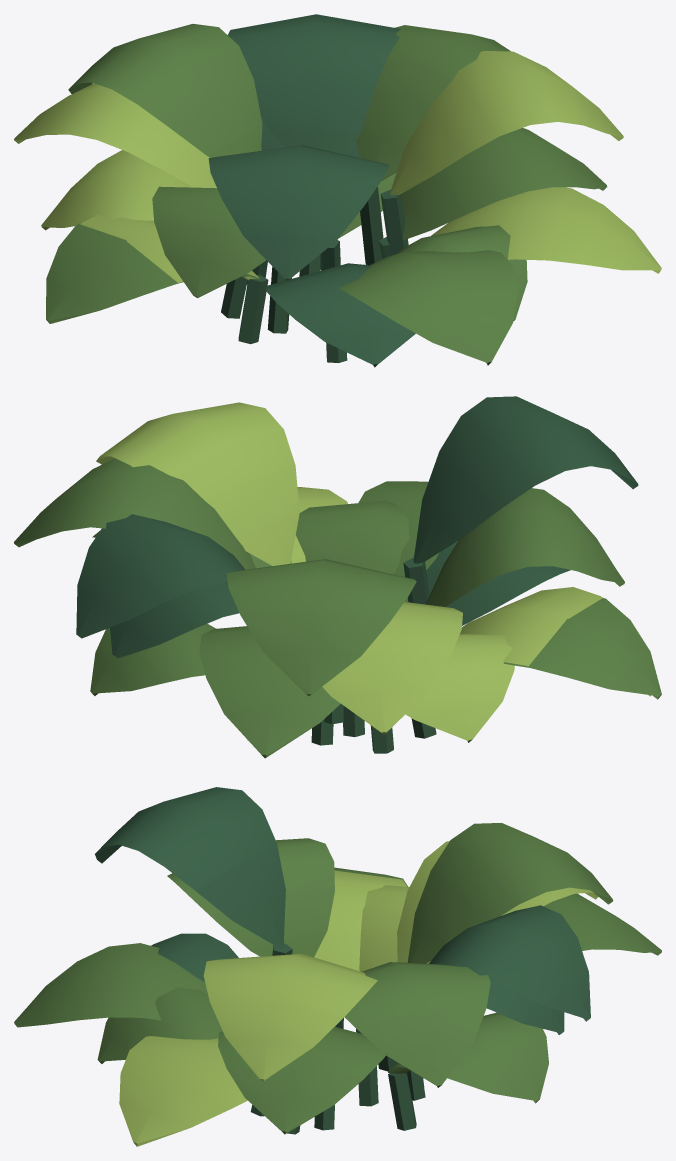
The model's file is foliage_coastal_shrub_a.glb.
The picture shows the model from 3 angles, top to bottom: view 1: azimuth 30°, elevation 25°; view 2: azimuth 150°, elevation 25°; view 3: azimuth 270°, elevation 25°; orthographic projection. The views are drawn at different scales.
Parts seen in each view (by area): view 1: foliage_coastal_shrub_a_LOD0; view 2: foliage_coastal_shrub_a_LOD0; view 3: foliage_coastal_shrub_a_LOD0.
Part boxes in pixels (box(x1,y1,x2,y2)): foliage_coastal_shrub_a_LOD0: box(14, 14, 661, 367); foliage_coastal_shrub_a_LOD0: box(14, 396, 661, 758); foliage_coastal_shrub_a_LOD0: box(14, 787, 661, 1146).
Size of what is drawn, in the model's own units: 1.46 by 0.6613 by 1.53.
